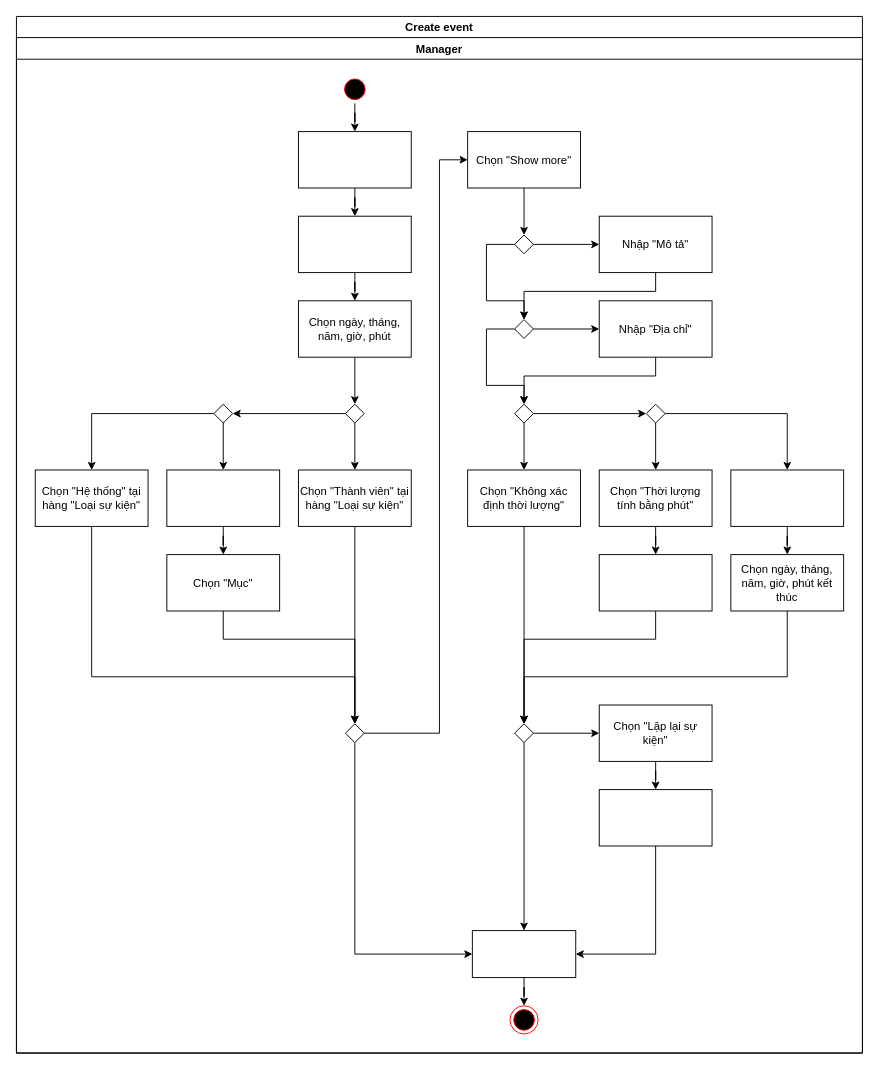
The diagram is 879 pixels wide and 1070 high, and some of its shapes have lost their labels. The shapes that lost their labels are listed below. From the top down, each one's box as (x1, y1, x2, y2) in pixels, then its label:
(298, 131, 411, 188): Chọn "Sự kiện mới"
(298, 215, 411, 273): Nhập "Tên sự kiện"
(166, 469, 280, 526): Chọn "Mục" tại hàng "Loại sự kiện"
(730, 469, 844, 526): Chọn "Tới"
(598, 554, 712, 611): Nhập "Thời lượng tính bằng phút"
(598, 789, 712, 846): Nhập "Lặp lại hàng tuần, tạo ra tất cả"
(471, 930, 576, 978): Chọn "Lưu"
